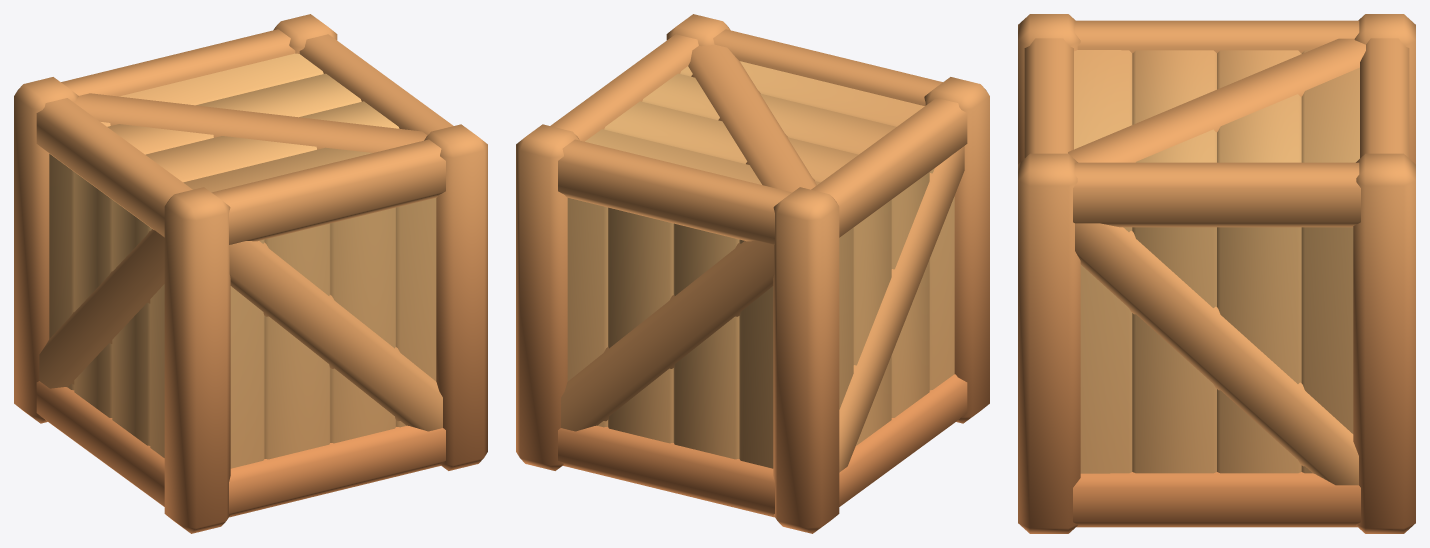
File: crate.fbx
3 renders of one model, left to right at view 1: azimuth 30°, elevation 25°; view 2: azimuth 150°, elevation 25°; view 3: azimuth 270°, elevation 25°, orthographic. The views are drawn at different scales.
Parts seen in each view (by area): view 1: crate; view 2: crate; view 3: crate.
Part boxes in pixels (box(x1,y1,x2,y2)): crate: box(14, 14, 487, 533); crate: box(516, 14, 989, 533); crate: box(1018, 14, 1415, 533).
Size of the model in its own units: 0.9073 by 0.9266 by 0.918.
1 material, 1 textured.
